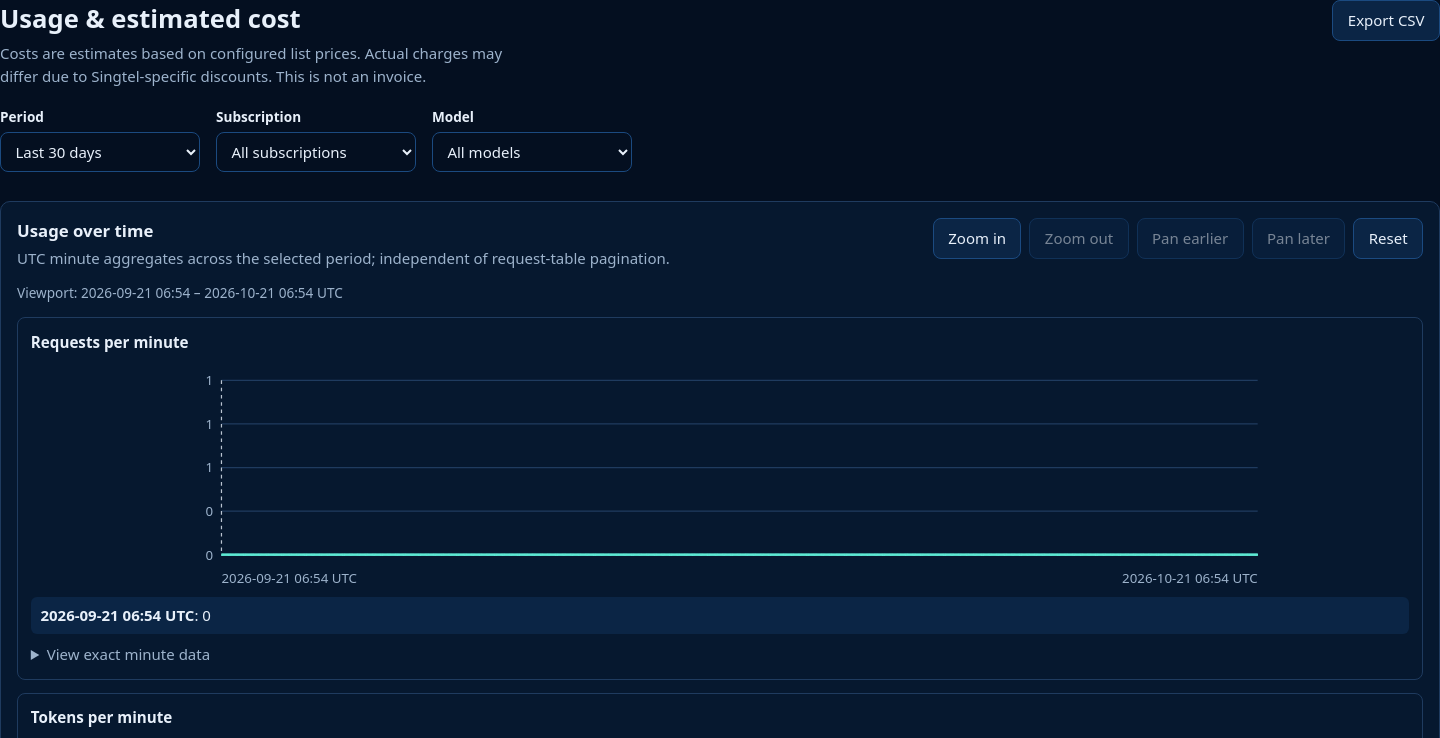
Test: UsagePage › visibly resets unavailable models only after a successful current-scope lookup and ignores stale responses
The image size is (1440, 738).
Select "historical" in the dropdown labelled "Model" at [532, 152], box [432,132,632,172]
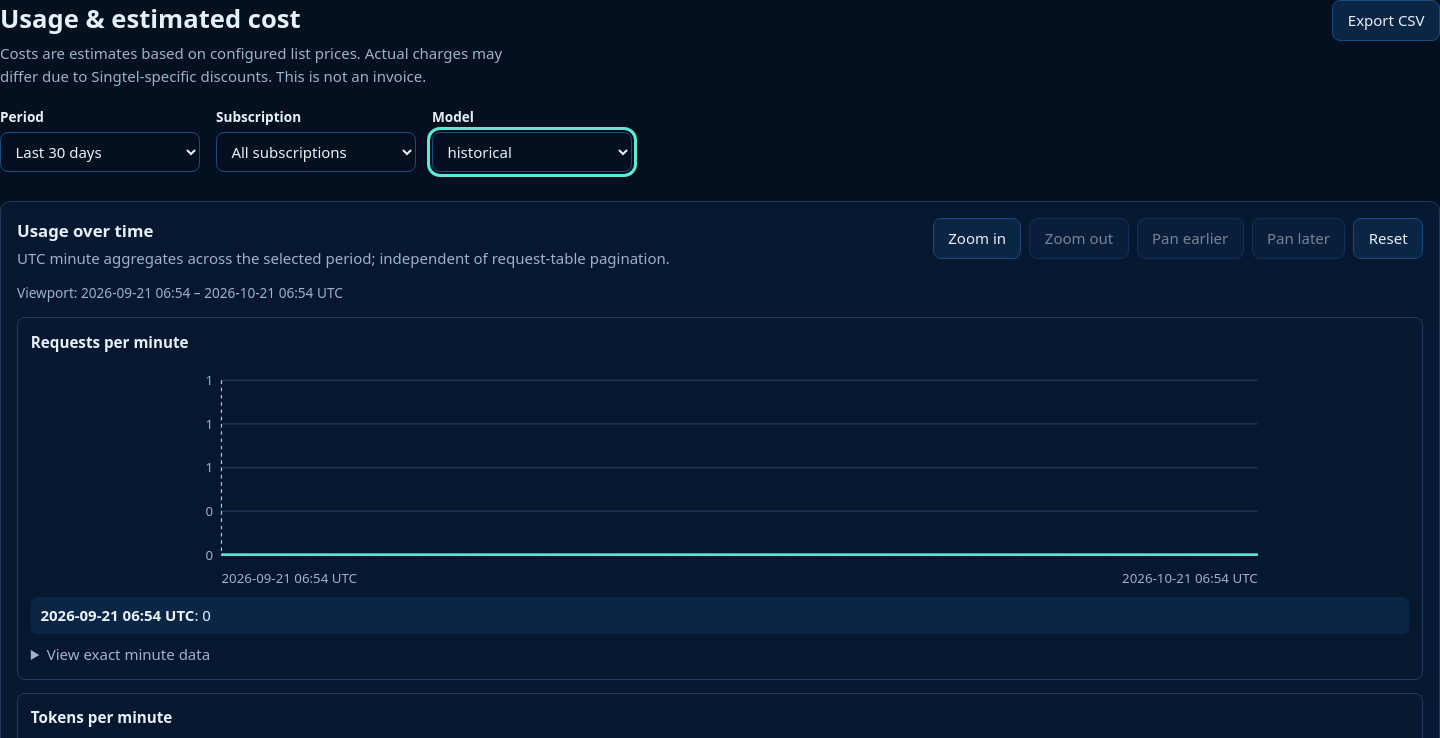
Select "Last 7 days" in the dropdown labelled "Period" at [100, 152], box [0,132,200,172]
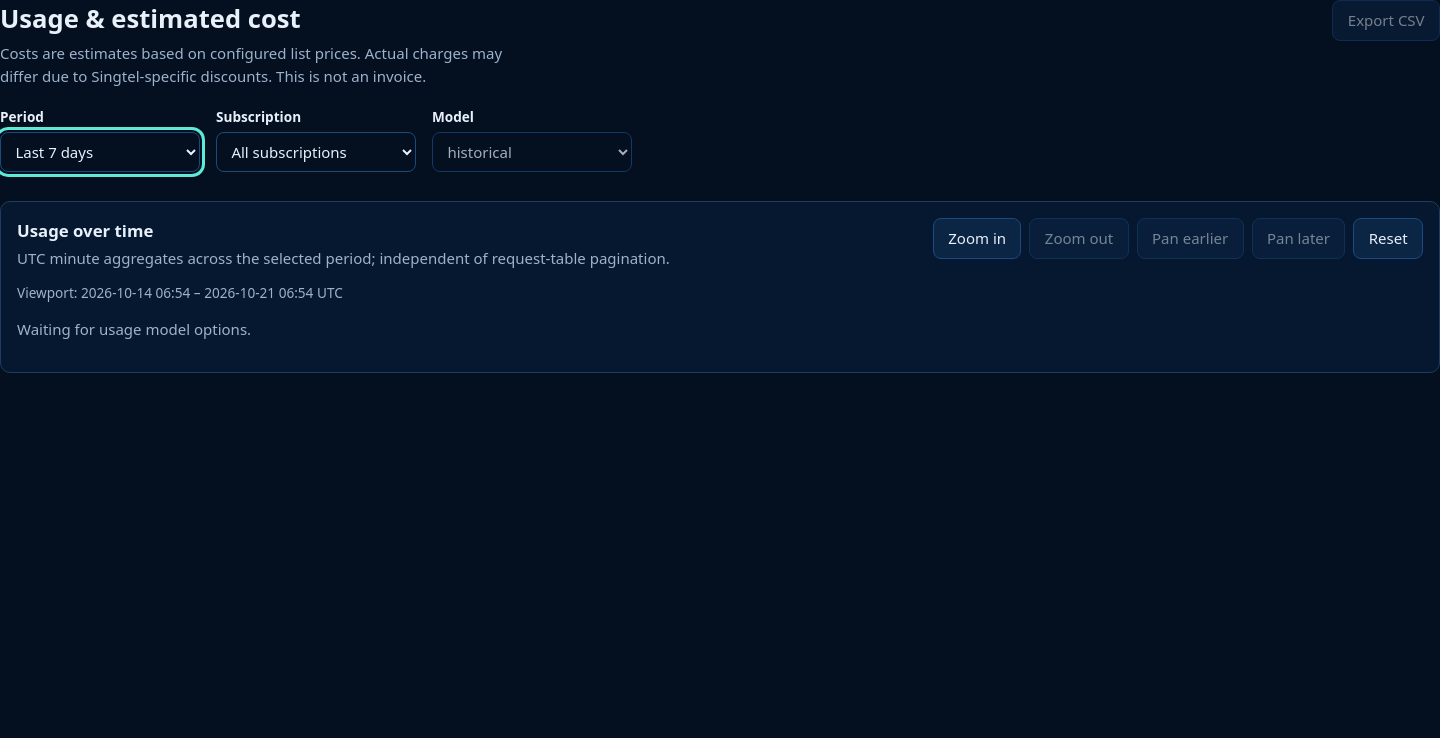
Check: the dropdown labelled "Model" is disabled, box [432,132,632,172]
Check: the button "Export CSV" is disabled, box [1332,0,1439,40]
Select "Last 1 day" in the dropdown labelled "Period" at [100, 152], box [0,132,200,172]
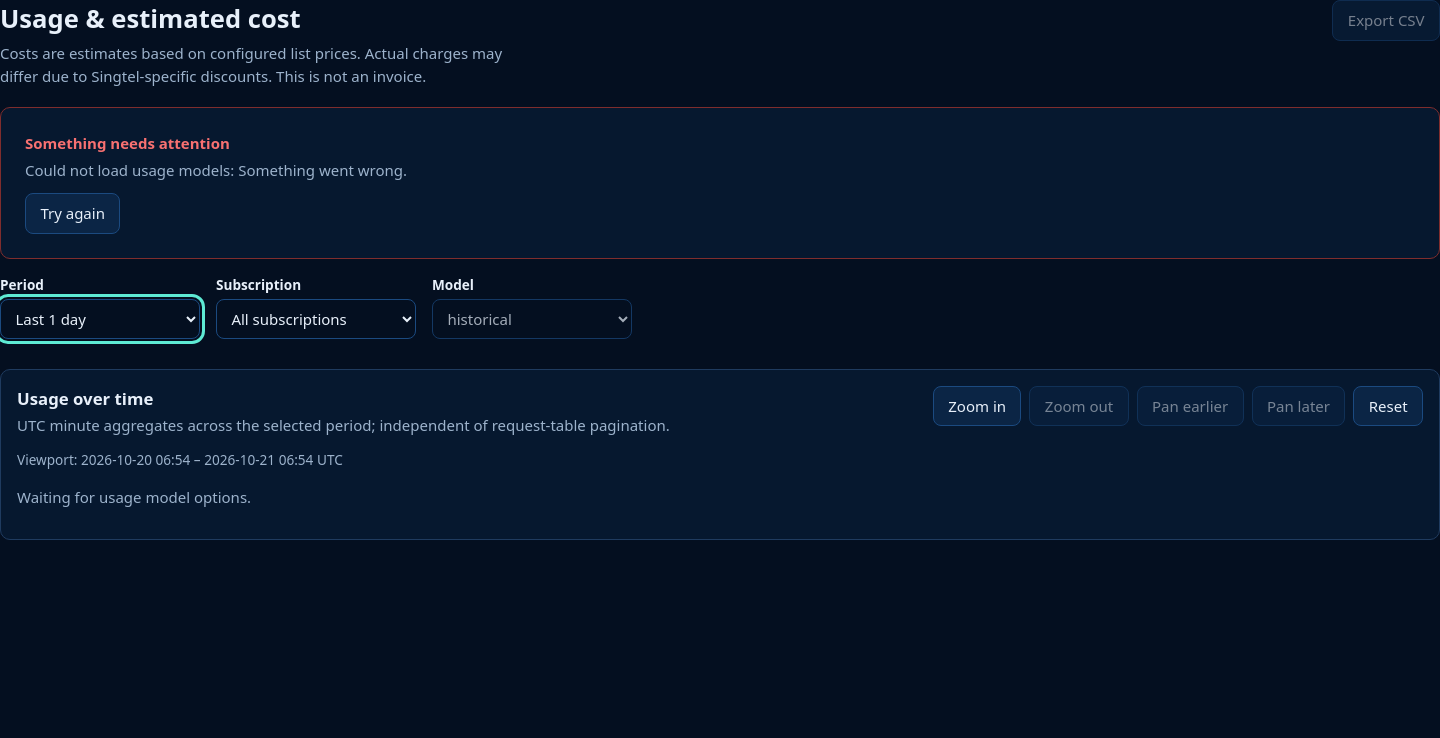
Check: the text "Reset to All models" is not shown
Check: the text "Could not load usage models: Something went wrong." is shown, box [25,160,407,180]
Click the button "Try again" at [73, 214], box [25,193,120,234]
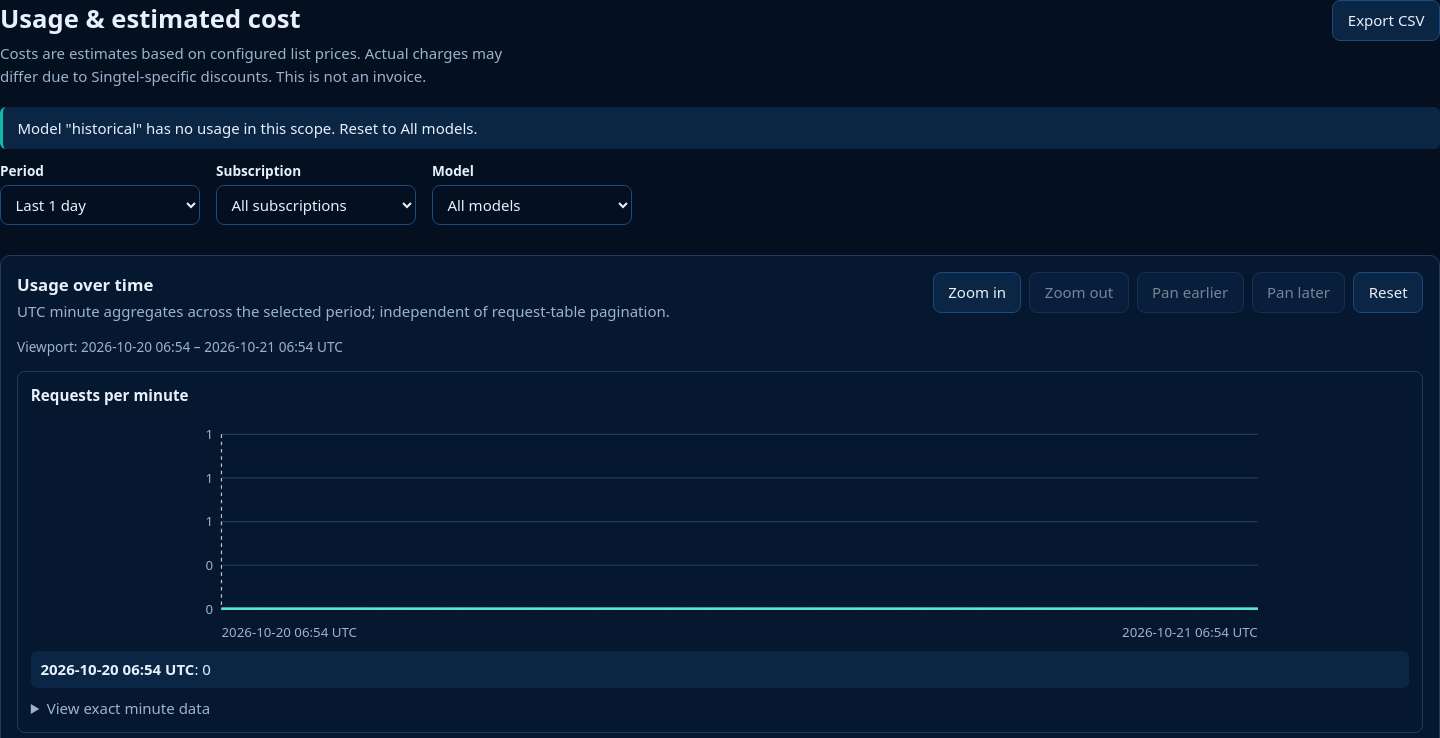
Check: the text "Model \"historical\" has no usage in this scope. Reset to All models." is shown, box [0,107,1439,149]
Check: the button "Export CSV" is enabled, box [1332,0,1439,40]
